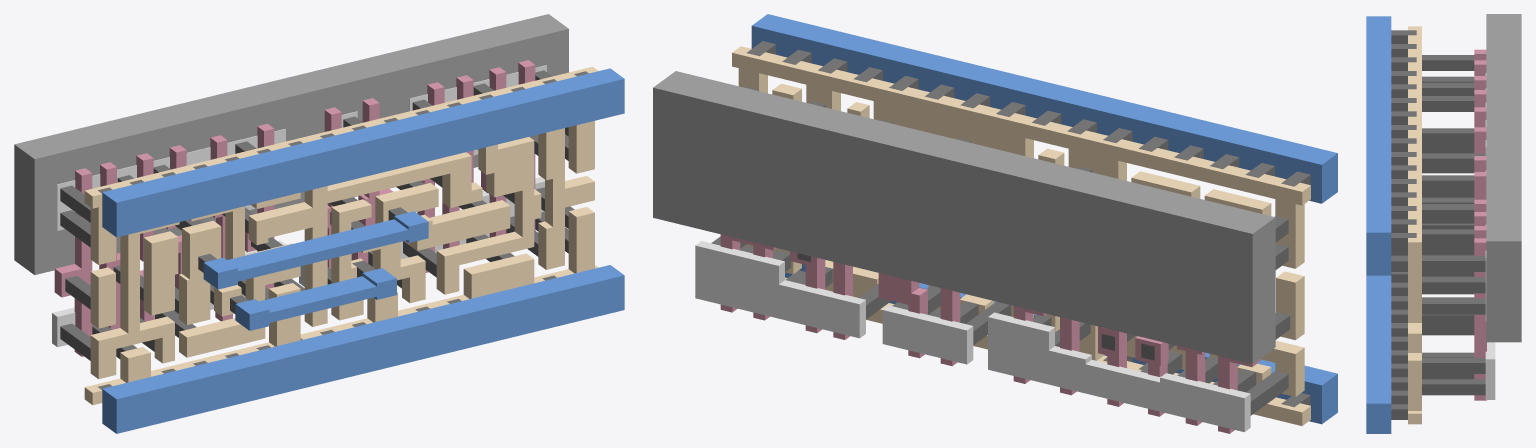
Rendered from sky130_fd_sc_hd__sdlclkp_2.gds.gltf.
3 renders of one model, left to right at view 1: azimuth 30°, elevation 25°; view 2: azimuth 150°, elevation 25°; view 3: azimuth 270°, elevation 25°, orthographic. The views are drawn at different scales.
Visible parts, largest first — view 1: sky130_fd_sc_hd__sdlclkp_2_met1, sky130_fd_sc_hd__sdlclkp_2_li1, sky130_fd_sc_hd__sdlclkp_2_nwell, sky130_fd_sc_hd__sdlclkp_2_poly, sky130_fd_sc_hd__sdlclkp_2_licon, sky130_fd_sc_hd__sdlclkp_2_diff, sky130_fd_sc_hd__sdlclkp_2_mcon; view 2: sky130_fd_sc_hd__sdlclkp_2_nwell, sky130_fd_sc_hd__sdlclkp_2_li1, sky130_fd_sc_hd__sdlclkp_2_diff, sky130_fd_sc_hd__sdlclkp_2_met1, sky130_fd_sc_hd__sdlclkp_2_poly, sky130_fd_sc_hd__sdlclkp_2_licon, sky130_fd_sc_hd__sdlclkp_2_mcon; view 3: sky130_fd_sc_hd__sdlclkp_2_licon, sky130_fd_sc_hd__sdlclkp_2_nwell, sky130_fd_sc_hd__sdlclkp_2_met1, sky130_fd_sc_hd__sdlclkp_2_mcon, sky130_fd_sc_hd__sdlclkp_2_li1, sky130_fd_sc_hd__sdlclkp_2_poly, sky130_fd_sc_hd__sdlclkp_2_diff.
Boxes of the visible parts, x1,y1,x2,y2 form: sky130_fd_sc_hd__sdlclkp_2_met1: (102,68,624,433); sky130_fd_sc_hd__sdlclkp_2_li1: (84,66,598,405); sky130_fd_sc_hd__sdlclkp_2_nwell: (14,14,568,274); sky130_fd_sc_hd__sdlclkp_2_poly: (54,60,535,356); sky130_fd_sc_hd__sdlclkp_2_licon: (60,70,574,360); sky130_fd_sc_hd__sdlclkp_2_diff: (52,65,546,347); sky130_fd_sc_hd__sdlclkp_2_mcon: (98,71,588,389); sky130_fd_sc_hd__sdlclkp_2_nwell: (653,71,1275,363); sky130_fd_sc_hd__sdlclkp_2_li1: (732,46,1310,425); sky130_fd_sc_hd__sdlclkp_2_diff: (695,241,1250,432); sky130_fd_sc_hd__sdlclkp_2_met1: (751,14,1337,424); sky130_fd_sc_hd__sdlclkp_2_poly: (720,234,1260,433); sky130_fd_sc_hd__sdlclkp_2_licon: (711,87,1290,415); sky130_fd_sc_hd__sdlclkp_2_mcon: (747,41,1310,407); sky130_fd_sc_hd__sdlclkp_2_licon: (1422,55,1485,395); sky130_fd_sc_hd__sdlclkp_2_nwell: (1486,14,1521,342); sky130_fd_sc_hd__sdlclkp_2_met1: (1366,16,1391,433); sky130_fd_sc_hd__sdlclkp_2_mcon: (1391,30,1416,419); sky130_fd_sc_hd__sdlclkp_2_li1: (1408,26,1421,424); sky130_fd_sc_hd__sdlclkp_2_poly: (1474,49,1486,400); sky130_fd_sc_hd__sdlclkp_2_diff: (1485,73,1495,399).
Size of the model in its own units: 7.74 by 3.2 by 2.24.
